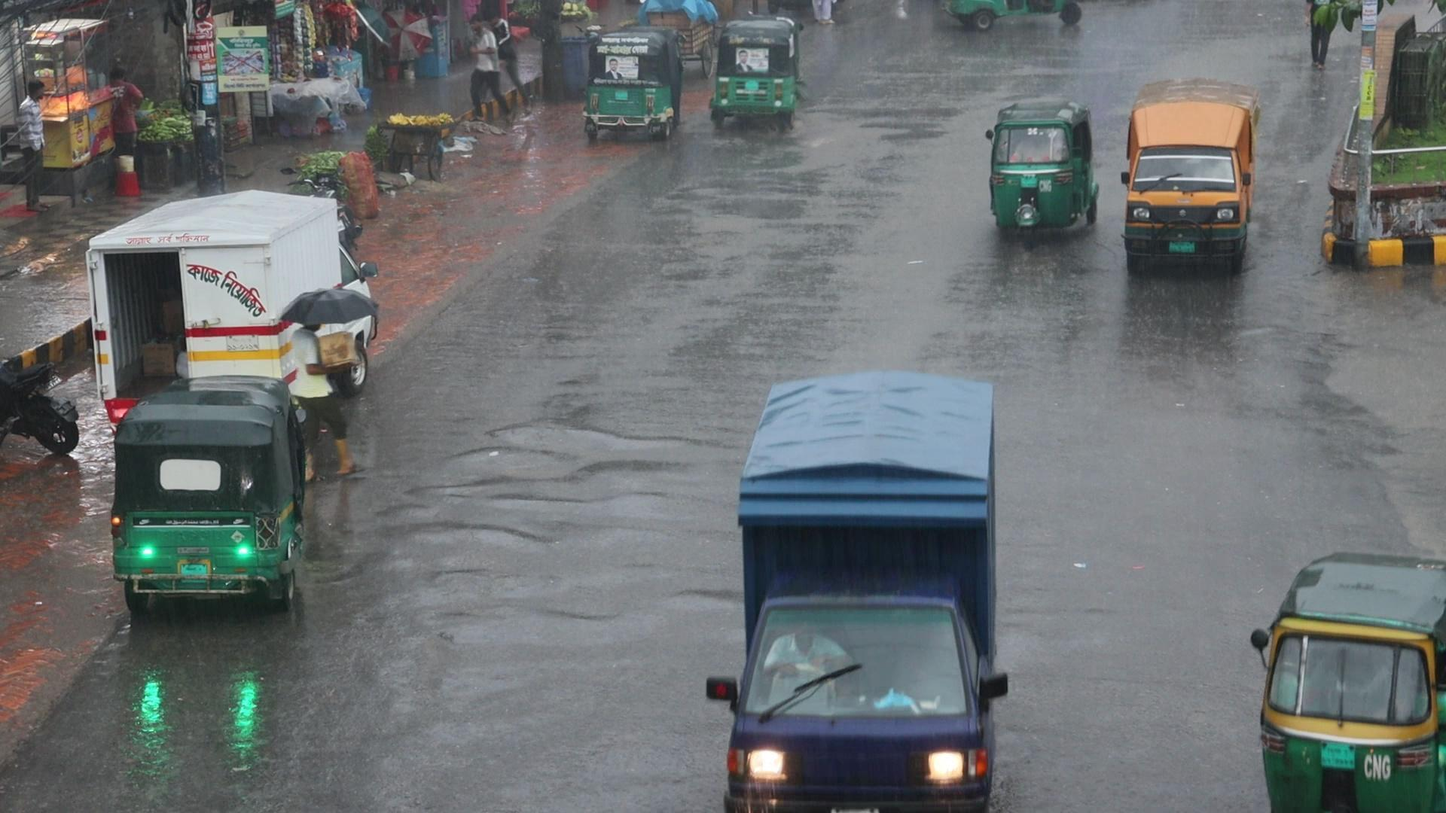Truck: (698, 364, 1014, 813), (1117, 74, 1263, 274)
